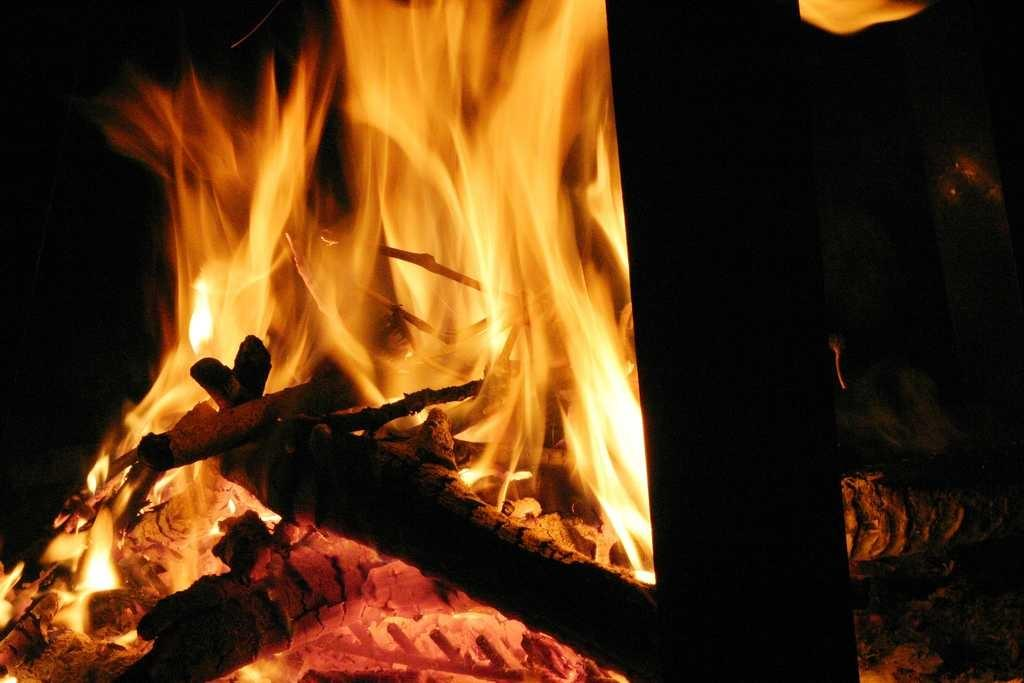fire: (188, 18, 592, 378)
